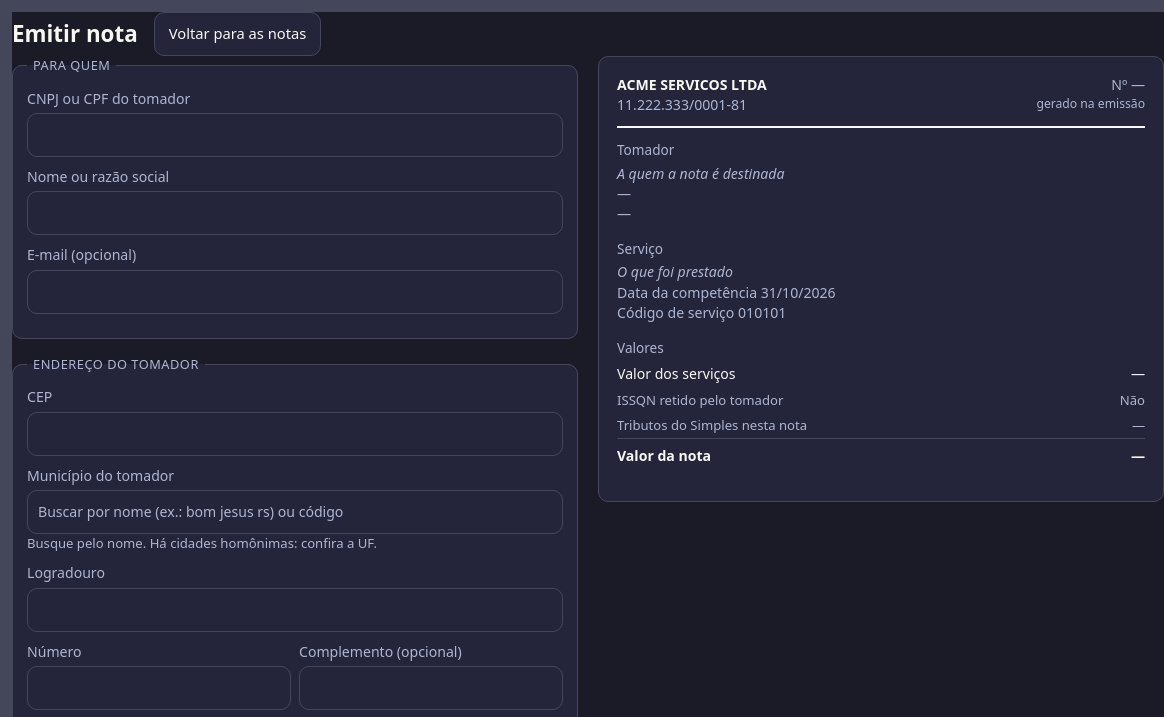
it: a consulta é AJUDA, nunca portão › o que a Receita devolveu chega aos campos, com a origem no rótulo
Type "11222333000181" into the field labelled "CNPJ ou CPF do tomador". click: (295,135)
box: [27,113,563,157]
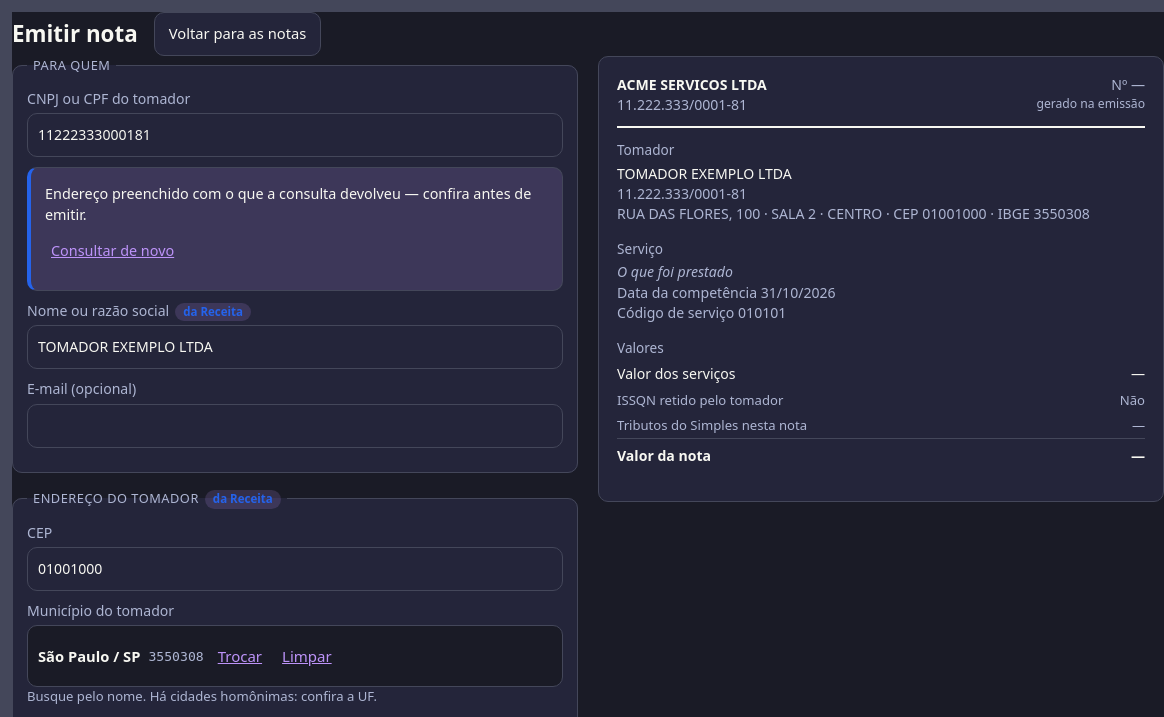
Now the field with id "emitir-nome" holds "TOMADOR EXEMPLO LTDA", box [27,325,563,369]
Now the field with id "emitir-cep" holds "01001000", box [27,547,563,591]
Now the text "São Paulo / SP" is shown, box [38,646,140,667]
